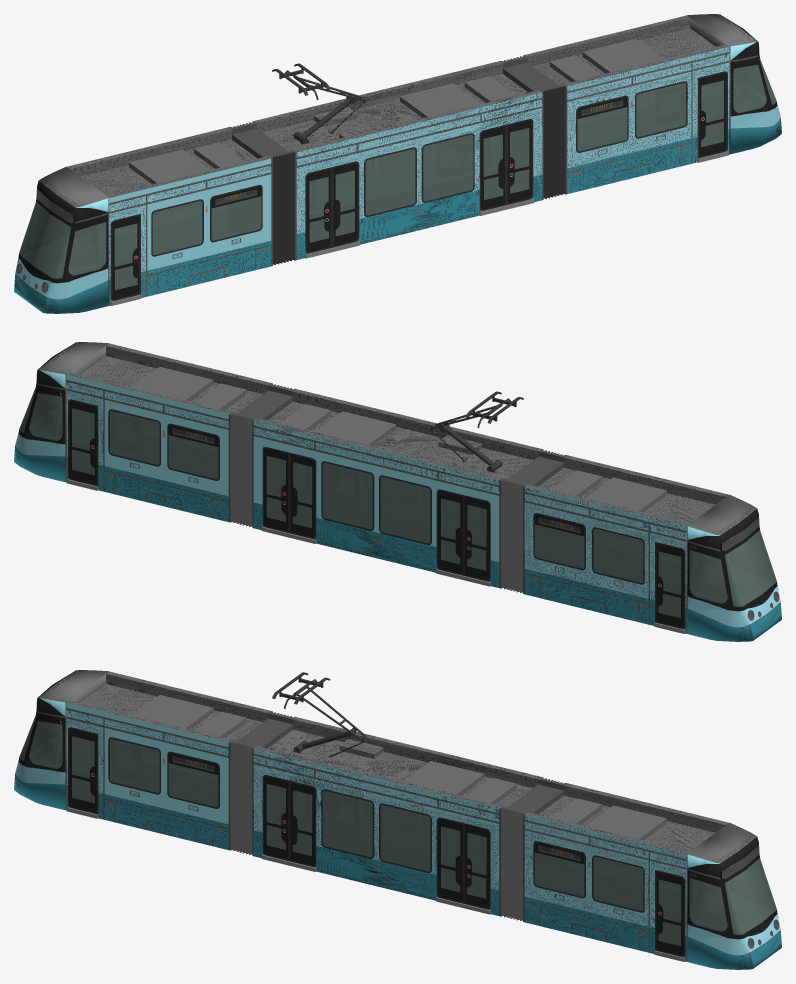
3 views of the same model, one above another, from view 1: azimuth 30°, elevation 25°; view 2: azimuth 150°, elevation 25°; view 3: azimuth 330°, elevation 25° (orthographic).
Parts seen in each view (by area): view 1: Composant_2 (×22), Grouper_61 (×10), Grouper_56 (×12), Grouper_55 (×10), Groupe_2 (×2), Grouper_2 (×4); view 2: Composant_2 (×22), Grouper_61 (×10), Grouper_56 (×12), Grouper_55 (×10), Groupe_2 (×2), Grouper_2 (×4); view 3: Composant_2 (×22), Grouper_61 (×10), Grouper_56 (×12), Grouper_55 (×10), Groupe_2 (×2), Grouper_2 (×4).
Boxes of the visible parts, x1,y1,x2,y2 form: Composant_2 (×22): (67,15,729,296); Grouper_61 (×10): (254,61,542,259); Grouper_56 (×12): (19,14,780,313); Grouper_55 (×10): (305,119,533,253); Groupe_2 (×2): (229,55,567,266); Grouper_2 (×4): (112,73,726,299); Composant_2 (×22): (66,343,728,624); Grouper_61 (×10): (253,389,541,587); Grouper_56 (×12): (15,342,776,641); Grouper_55 (×10): (262,447,490,581); Groupe_2 (×2): (228,383,566,594); Grouper_2 (×4): (69,401,683,627); Composant_2 (×22): (66,671,728,952); Grouper_61 (×10): (253,717,541,915); Grouper_56 (×12): (15,670,776,969); Grouper_55 (×10): (262,775,490,909); Groupe_2 (×2): (228,711,566,922); Grouper_2 (×4): (69,729,683,955).
Bounding box in the file's own units: 928 × 102 × 202.
